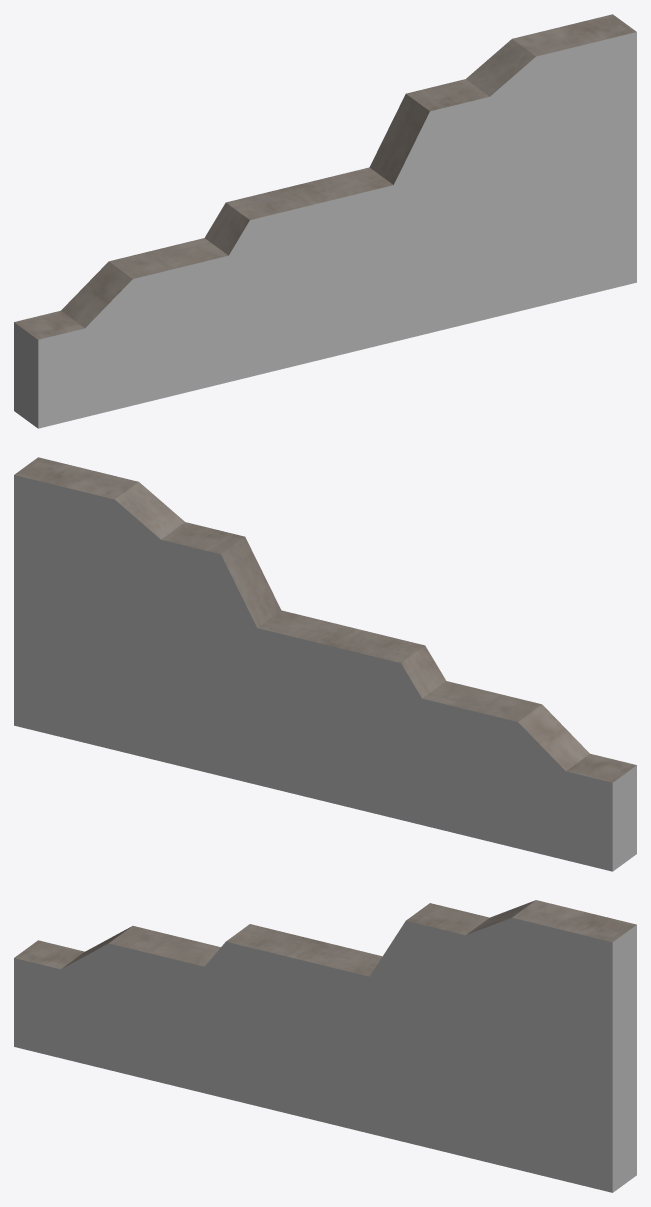
Rendered from wallBroken_typeA.fbx.
The picture shows the model from 3 angles, top to bottom: view 1: azimuth 30°, elevation 25°; view 2: azimuth 150°, elevation 25°; view 3: azimuth 330°, elevation 25°; orthographic projection.
Parts seen in each view (by area): view 1: wallBroken_typeA; view 2: wallBroken_typeA; view 3: wallBroken_typeA.
Boxes of the visible parts, <box> form: wallBroken_typeA: <box>14,14,636,428</box>; wallBroken_typeA: <box>14,457,636,871</box>; wallBroken_typeA: <box>14,900,636,1192</box>.
Size of the model in its own units: 10 by 4 by 0.7.
